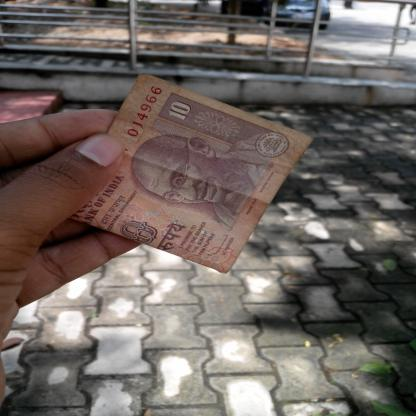Old10Front: (66, 72, 314, 274)
